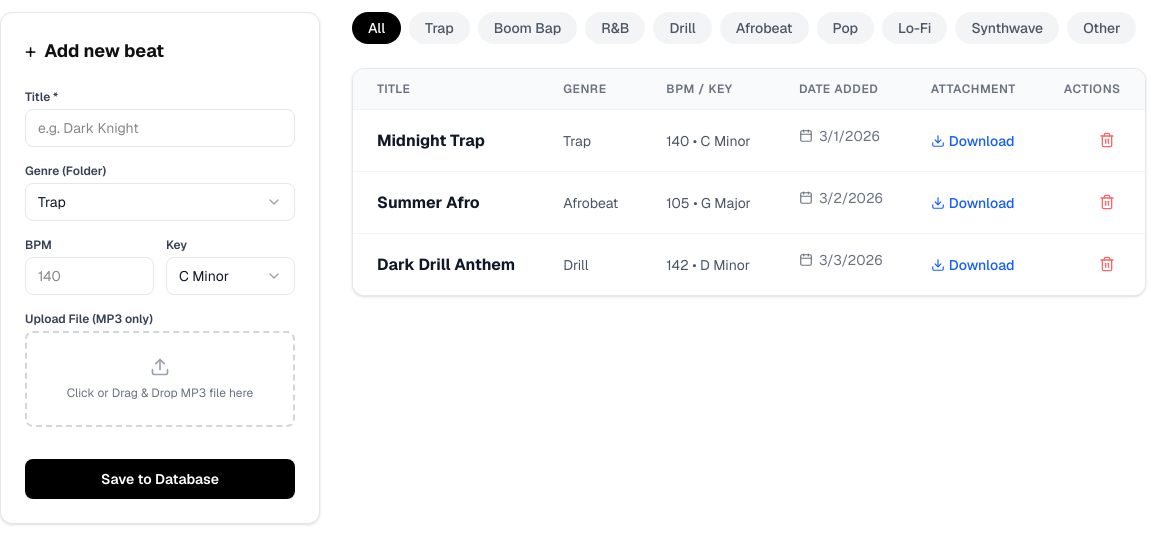
Test: BityPage (/bity) › filters beats by genre when clicking a genre pill
expect the text "Midnight Trap" is shown: met, box [353,110,539,172]
Click 'Afrobeat' filter pill
Click the button "Afrobeat" at (764, 28), box [720,12,809,44]
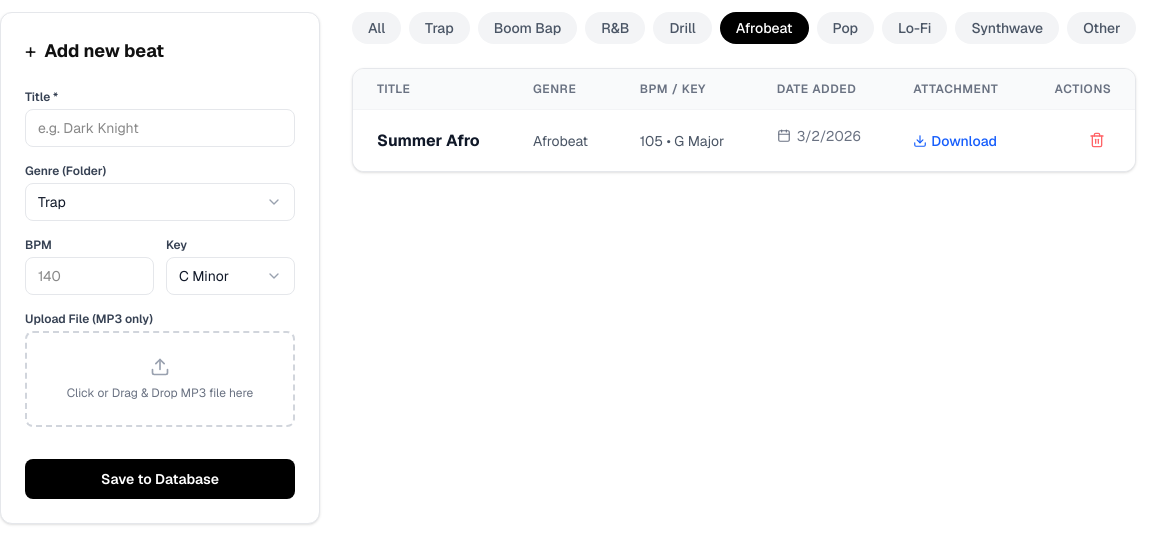
expect the text "Summer Afro" is shown: met, box [353,110,509,171]
expect the text "Midnight Trap" is gone: met
expect the text "Dark Drill Anthem" is gone: met
